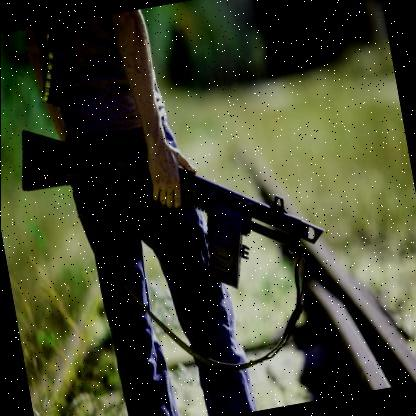rifle: (8, 63, 333, 337)
